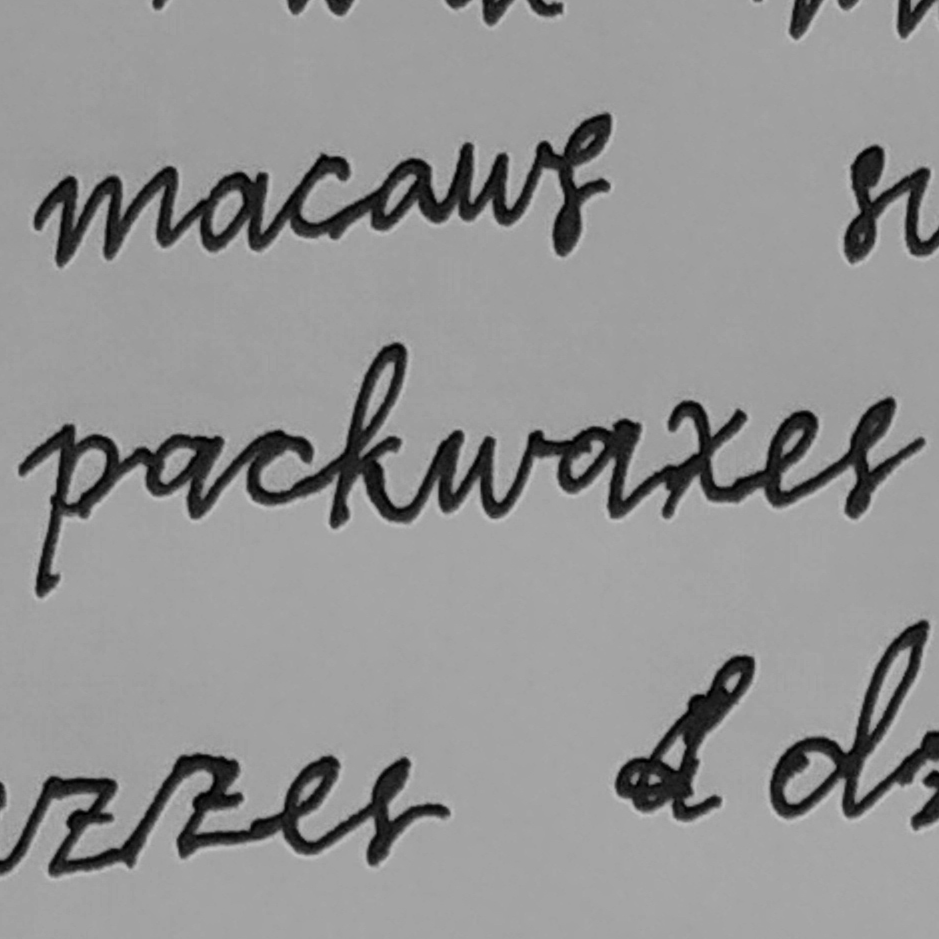a: (548, 410, 647, 523), (136, 421, 231, 525)
c: (239, 421, 322, 516)
e: (757, 401, 823, 516)
k: (324, 333, 416, 537)
p: (17, 418, 134, 601)
s: (832, 392, 929, 524)
w: (427, 415, 547, 524)
x: (652, 396, 751, 524)
